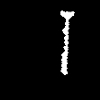half_double_crochet: (61, 11, 73, 74)
